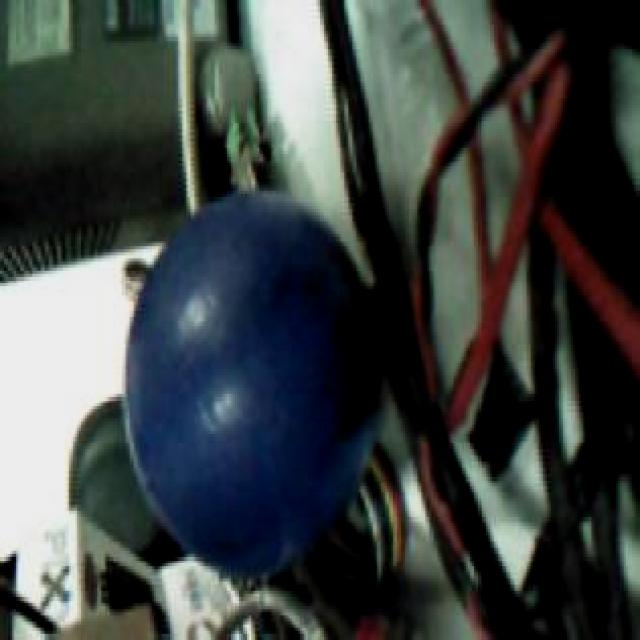BallPurple: (118, 194, 382, 574)
